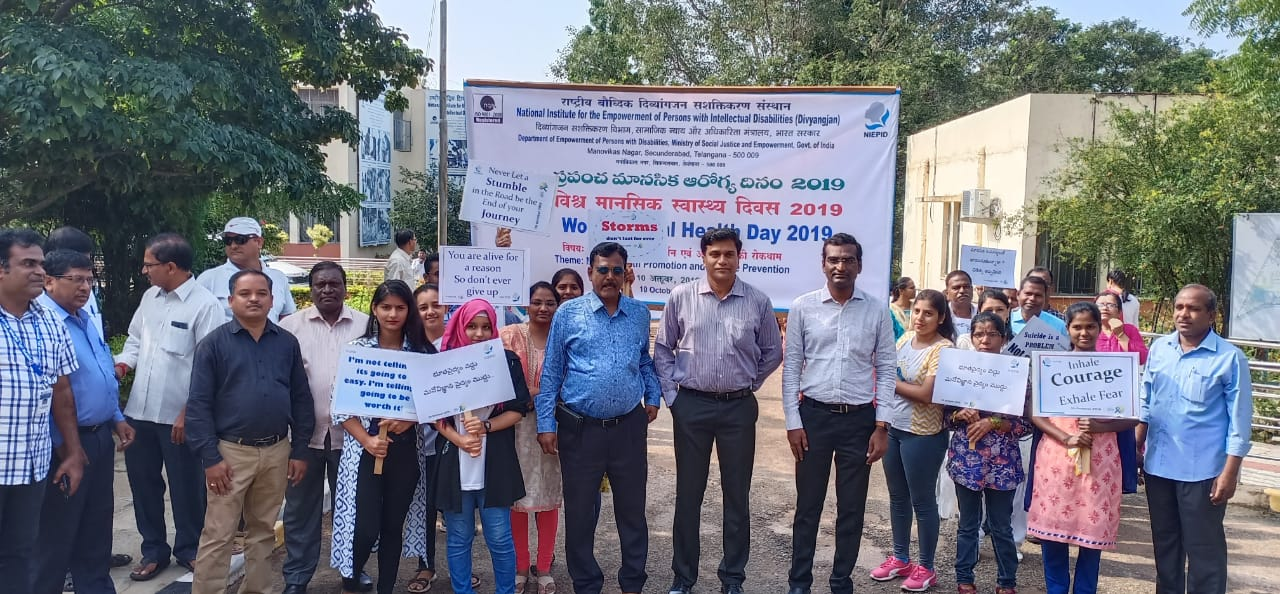person: (657, 232, 771, 591), (566, 241, 652, 592), (795, 232, 880, 587), (1029, 305, 1130, 590), (128, 232, 208, 566), (42, 252, 118, 590), (431, 297, 518, 591), (1151, 283, 1233, 592), (198, 277, 279, 584), (342, 280, 414, 586), (944, 314, 1024, 588), (287, 261, 355, 570), (1, 230, 55, 594), (894, 287, 943, 587), (517, 285, 558, 589), (209, 213, 279, 273), (1090, 294, 1147, 347), (942, 269, 976, 341), (383, 223, 418, 284), (411, 283, 449, 334), (1016, 279, 1051, 330), (977, 286, 1017, 330), (890, 272, 918, 324), (549, 266, 583, 298)
